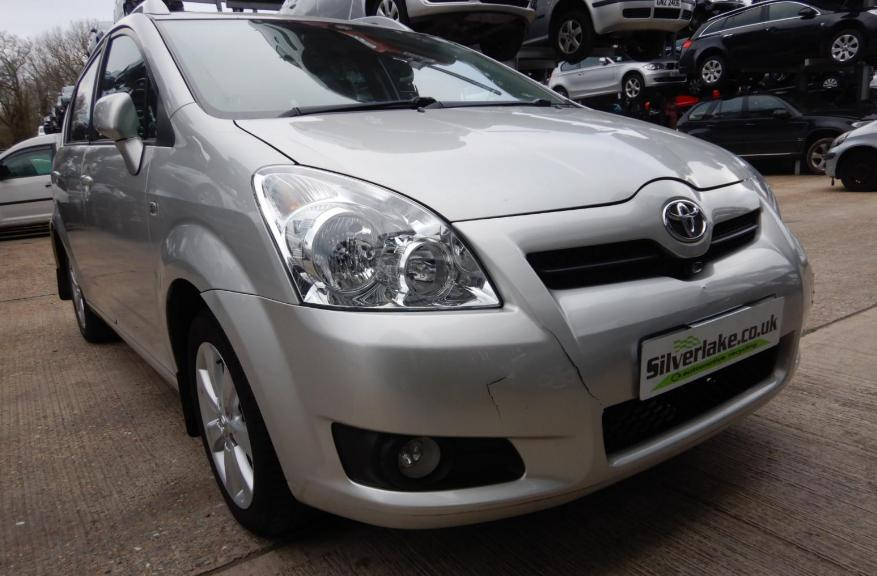Back-door: (51, 42, 102, 307)
Back-wheel: (67, 254, 122, 343)
Back-window: (67, 46, 100, 141)
Fender: (147, 103, 299, 370)
Front-bumper: (201, 179, 813, 531)
Front-door: (81, 25, 174, 376)
Front-wheel: (186, 314, 328, 541)
Front-window: (91, 35, 147, 140), (146, 76, 158, 138)
Grille: (528, 208, 760, 289)
Headlight: (253, 165, 501, 310), (332, 423, 524, 492), (728, 152, 780, 219)
Hood: (233, 107, 750, 221)
License-plate: (640, 297, 783, 401)
Mirror: (93, 93, 143, 176)
Quarter-panel: (50, 207, 60, 269)
Rocker-panel: (86, 299, 180, 397)
Roof: (131, 0, 411, 30)
Windshield: (152, 19, 572, 118)
